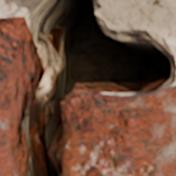broken_brick: (62, 85, 175, 175), (0, 16, 29, 175)
crack: (2, 0, 175, 175)
